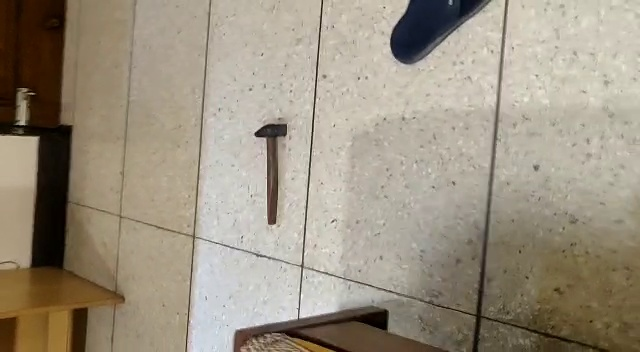hammer: (252, 123, 290, 227)
